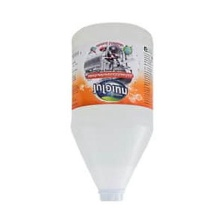cleaning_solution: (68, 20, 156, 205)
